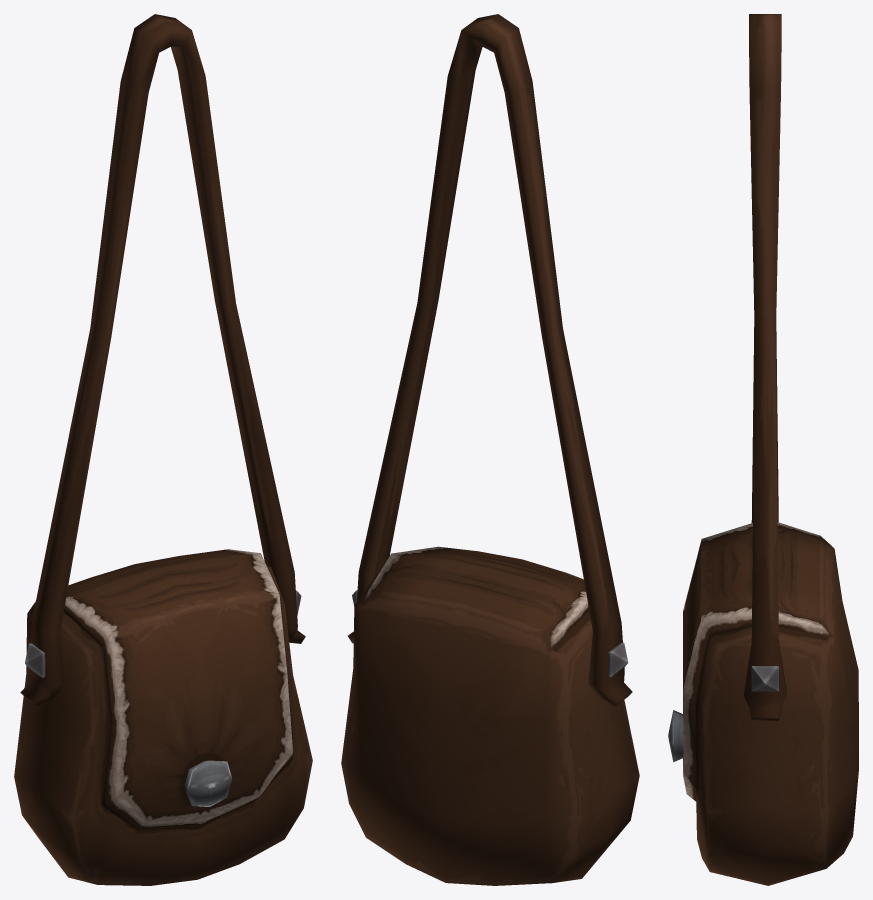
File: SM_PROP_bag_interior_01.fbx
3 renders of one model, left to right at view 1: azimuth 30°, elevation 25°; view 2: azimuth 150°, elevation 25°; view 3: azimuth 270°, elevation 25°, orthographic.
Visible parts, largest first — view 1: SM_PROP_bag_interior_01; view 2: SM_PROP_bag_interior_01; view 3: SM_PROP_bag_interior_01.
Part boxes in pixels (x1,y1,x2,y2): SM_PROP_bag_interior_01: [14, 14, 312, 885]; SM_PROP_bag_interior_01: [341, 14, 639, 885]; SM_PROP_bag_interior_01: [668, 14, 858, 885].
Size of the model in its own units: 23.67 by 69.43 by 14.31.
